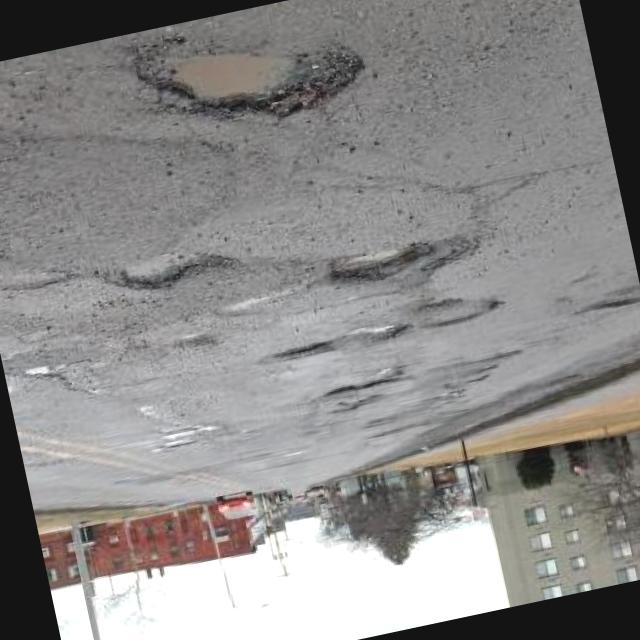pothole: (126, 15, 374, 152), (112, 238, 240, 302), (321, 236, 438, 296), (318, 373, 400, 405), (339, 316, 411, 352), (266, 339, 338, 369)
